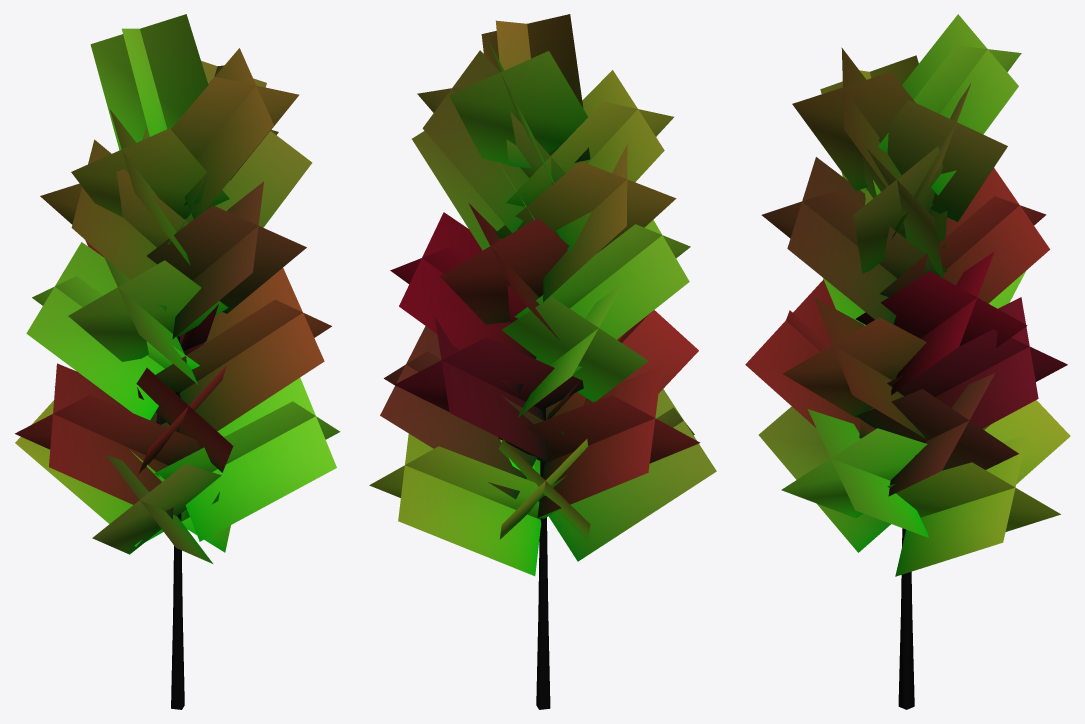
File: SuperTree_15.fbx
3 renders of one model, left to right at view 1: azimuth 30°, elevation 25°; view 2: azimuth 150°, elevation 25°; view 3: azimuth 270°, elevation 25°, orthographic. The views are drawn at different scales.
Visible parts, largest first — view 1: SuperTree_15; view 2: SuperTree_15; view 3: SuperTree_15.
Part boxes in pixels (box(x1,y1,x2,y2)): SuperTree_15: box(15, 14, 340, 709); SuperTree_15: box(369, 14, 716, 709); SuperTree_15: box(745, 14, 1070, 709).
Size of the model in its own units: 506 by 1153 by 502.
